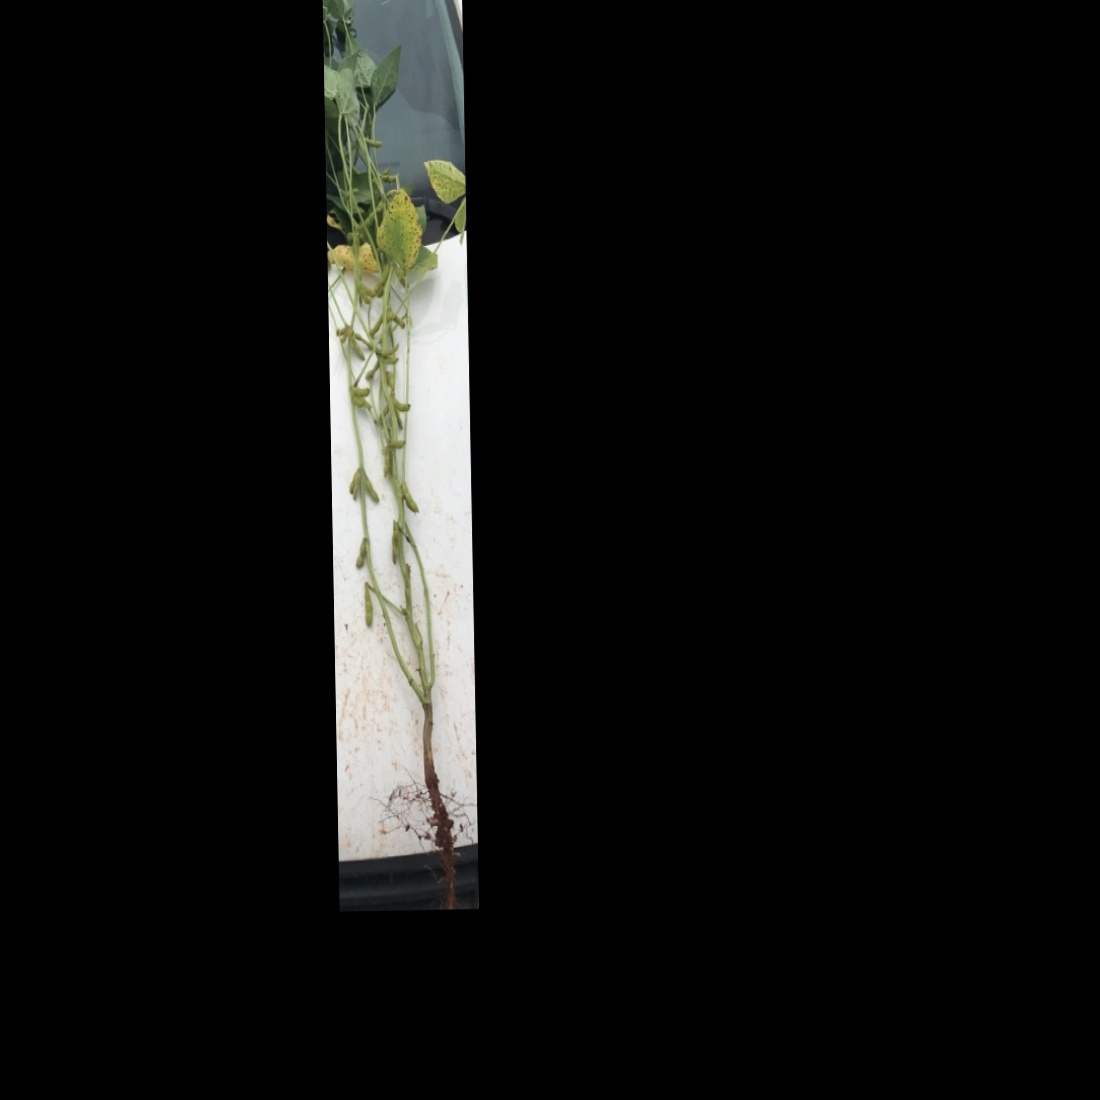pod: (402, 480, 421, 515), (362, 583, 375, 631), (352, 536, 368, 573), (363, 473, 380, 505), (349, 332, 366, 362), (356, 277, 373, 305), (366, 312, 383, 337), (350, 386, 373, 400), (392, 397, 411, 413)
soy: (326, 1, 477, 855)
